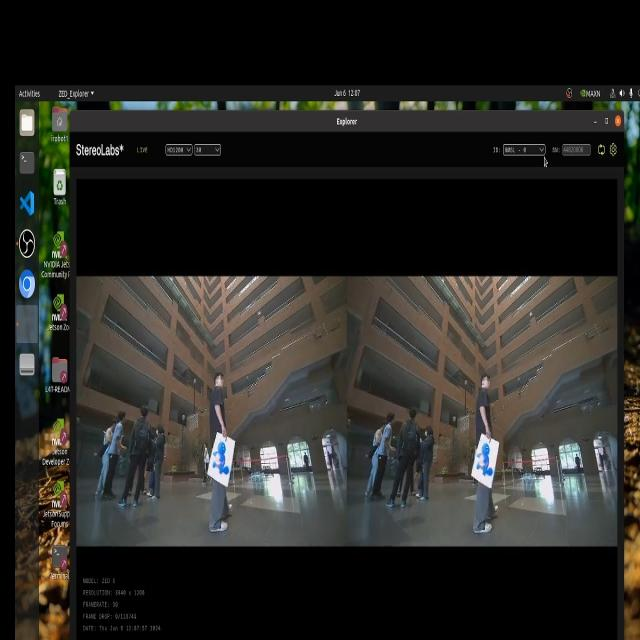blue: (476, 447, 493, 488), (212, 442, 229, 479)
